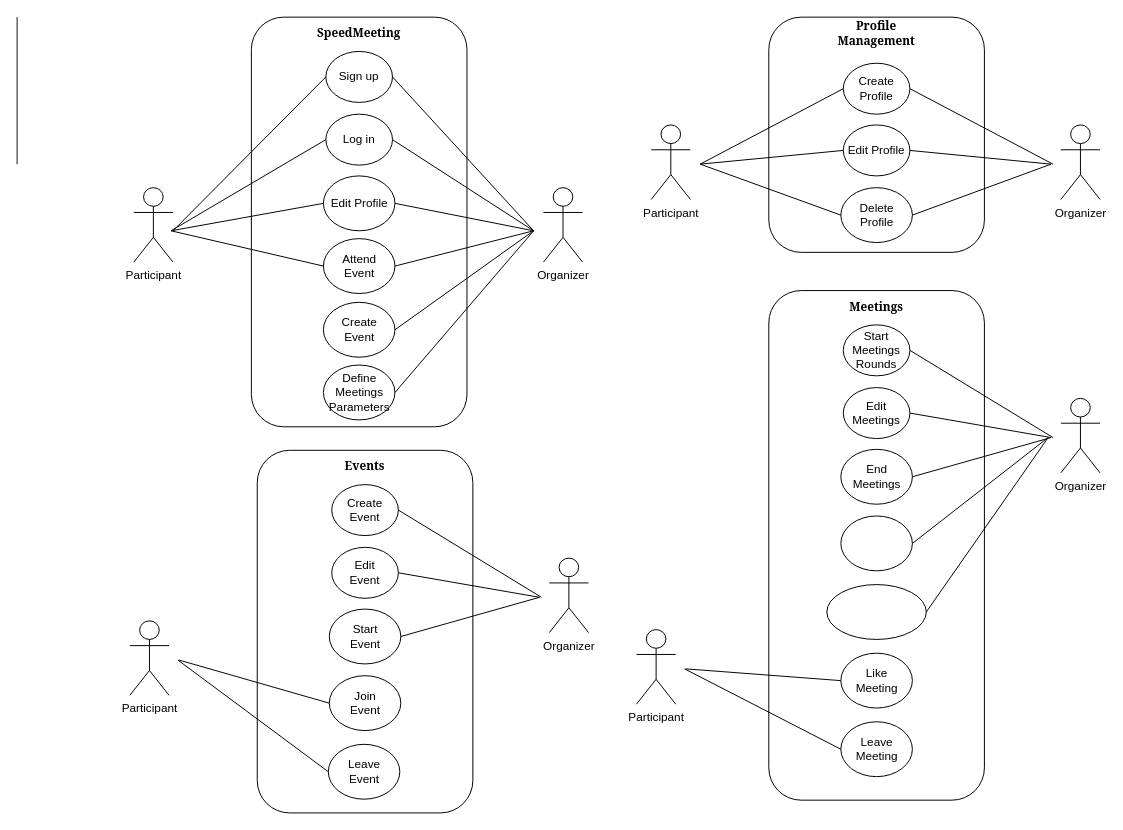
Some shapes in this 1123 by 830 pixel diagram are drawn without their labels. Each missing label, with the box of its shape:
Add Participant to Meeting: (840, 515, 912, 571)
Remove Participant from Meeting: (826, 584, 926, 639)
